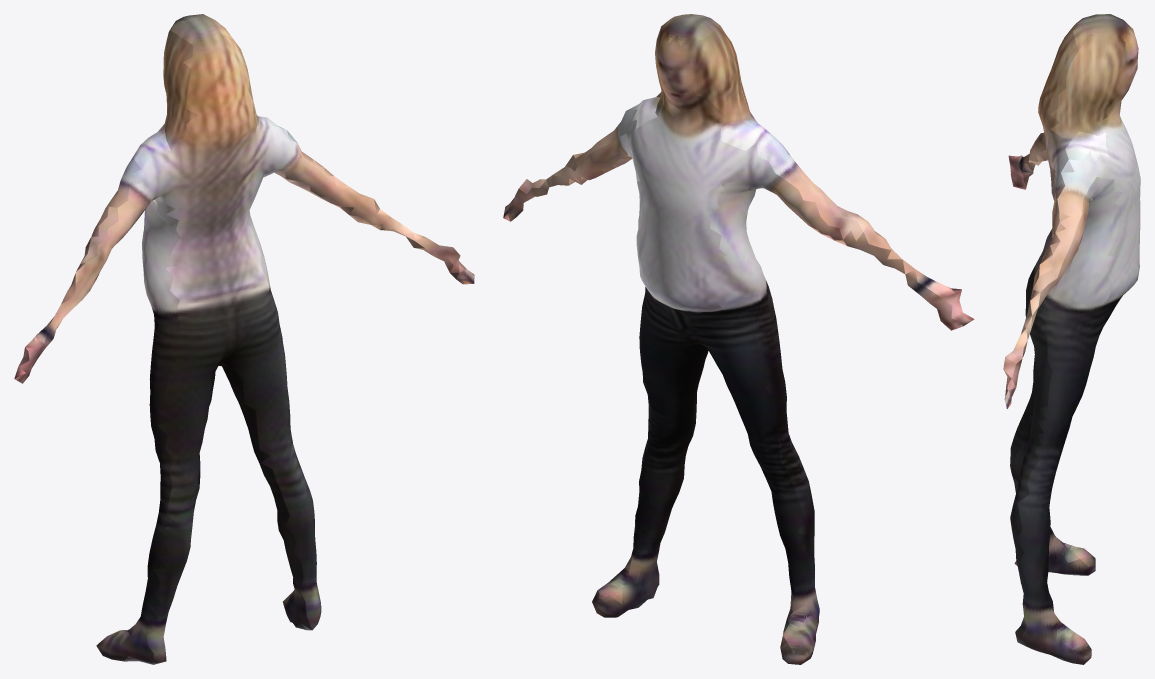
3 renders of one model, left to right at view 1: azimuth 30°, elevation 25°; view 2: azimuth 150°, elevation 25°; view 3: azimuth 270°, elevation 25°, orthographic. The views are drawn at different scales.
Visible parts, largest first — view 1: world; view 2: world; view 3: world.
Part boxes in pixels (x1,y1,x2,y2): world: [14, 14, 474, 664]; world: [503, 14, 974, 664]; world: [1003, 14, 1140, 664].
Size of the model in its own units: 0.7944 by 1.01 by 0.2092.
Materials: 1 (1 with a texture image).
